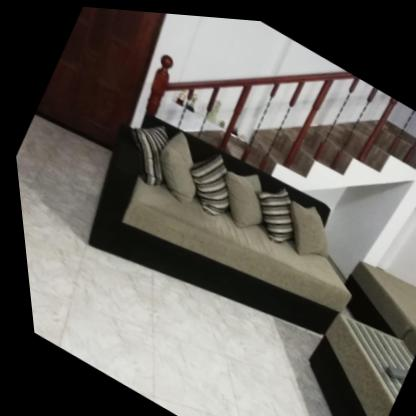Sofa: (54, 87, 382, 374)
